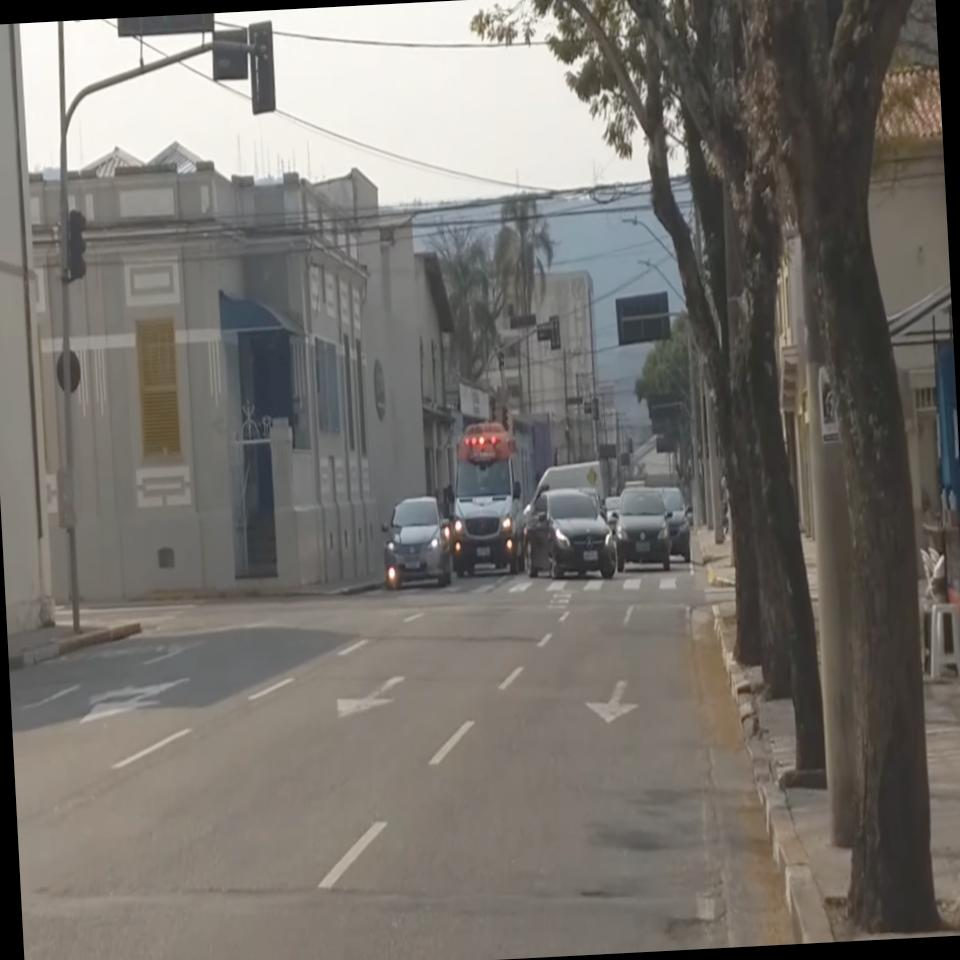bombeiro: (447, 421, 529, 576)
